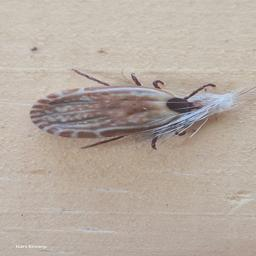Rhipicephalus sanguineus: (29, 68, 215, 152)
